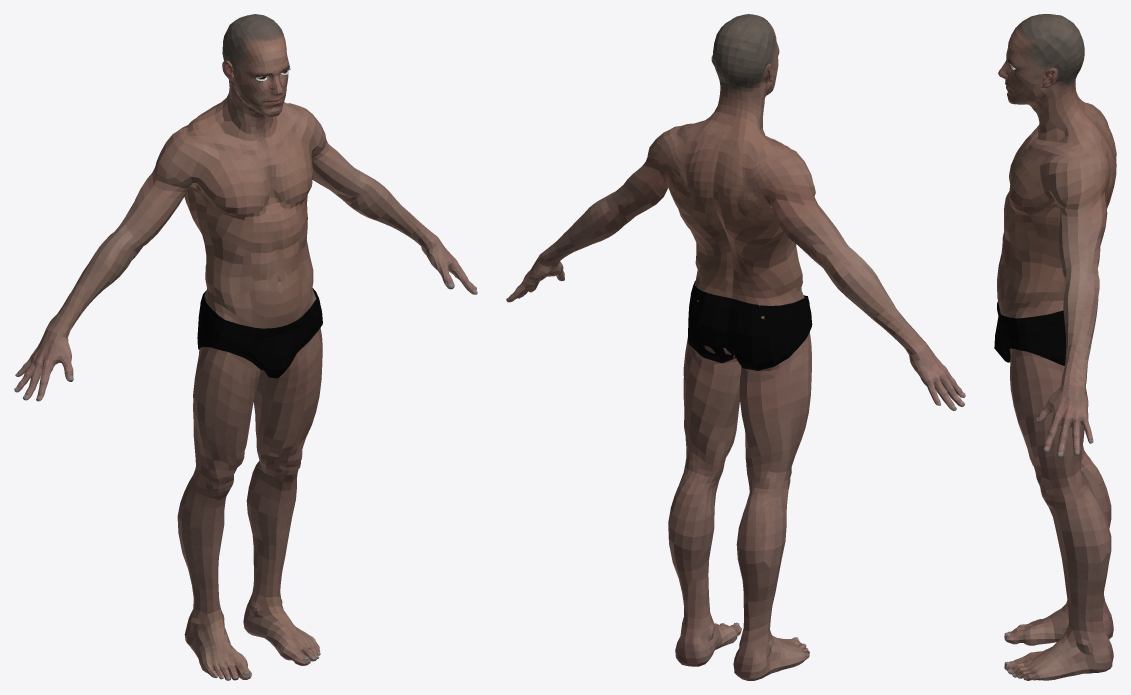
Rendered from male.obj.
3 renders of one model, left to right at view 1: azimuth 30°, elevation 25°; view 2: azimuth 150°, elevation 25°; view 3: azimuth 270°, elevation 25°, orthographic.
Visible parts, largest first — view 1: default1 man_GEO, man_GEO default4; view 2: default1 man_GEO, man_GEO default4; view 3: default1 man_GEO, man_GEO default4.
Boxes of the visible parts, x1,y1,x2,y2 form: default1 man_GEO: (14,14,477,680); man_GEO default4: (197,288,322,378); default1 man_GEO: (506,14,965,680); man_GEO default4: (688,281,812,370); default1 man_GEO: (997,14,1116,680); man_GEO default4: (994,301,1066,365).
Size of the model in its own units: 67.6 by 91.35 by 15.8.
